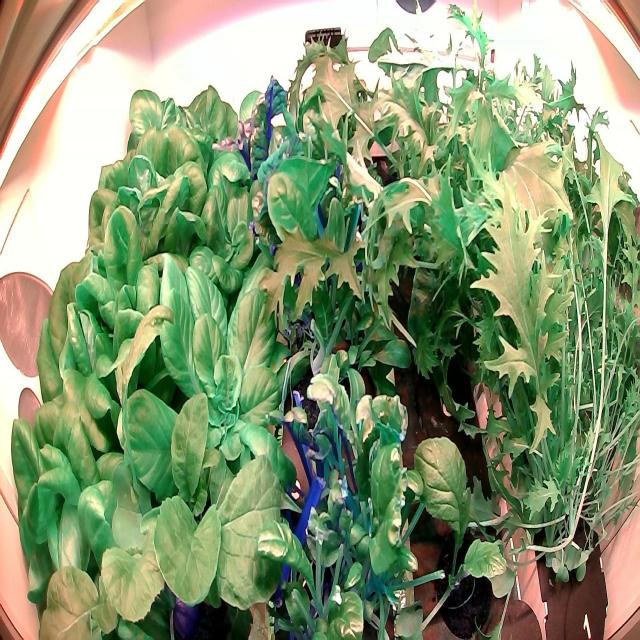Ready: (10, 383, 132, 632), (38, 194, 168, 426), (87, 83, 239, 264)
young: (156, 253, 286, 485), (188, 151, 265, 292)
